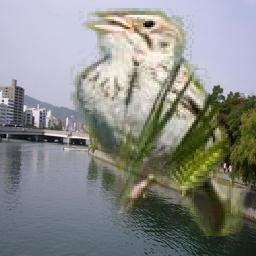Sparrow: (71, 8, 244, 236)
